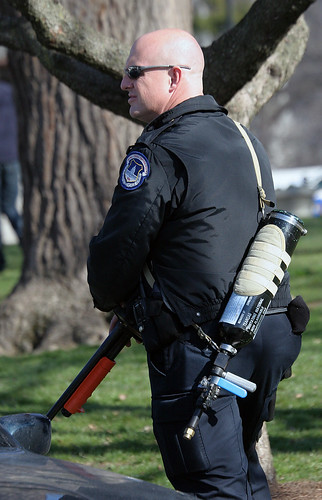policeman: (86, 29, 298, 473)
tree: (9, 1, 207, 356)
weapon: (46, 305, 144, 429)
